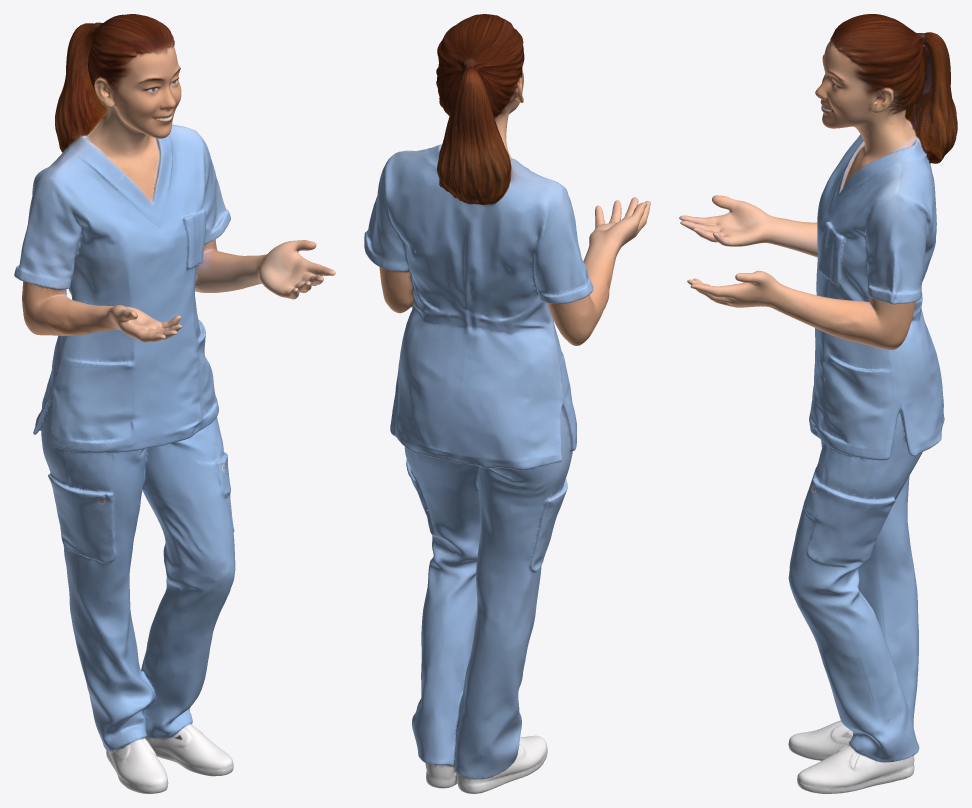
File: nurse.glb
3 renders of one model, left to right at view 1: azimuth 30°, elevation 25°; view 2: azimuth 150°, elevation 25°; view 3: azimuth 270°, elevation 25°, orthographic. The views are drawn at different scales.
Visible parts, largest first — view 1: Object_5, Object_6; view 2: Object_6, Object_5; view 3: Object_5, Object_6.
Part boxes in pixels (x1=…): Object_5: x1=22, y1=29, x2=335, y2=793; Object_6: x1=14, y1=14, x2=230, y2=771; Object_6: x1=364, y1=14, x2=603, y2=793; Object_5: x1=388, y1=52, x2=650, y2=793; Object_5: x1=679, y1=27, x2=933, y2=793; Object_6: x1=820, y1=14, x2=957, y2=792.
Bounding box in the file's own units: 0.6009 × 1.9 × 0.6445.
Materials: 1 (1 with a texture image).
